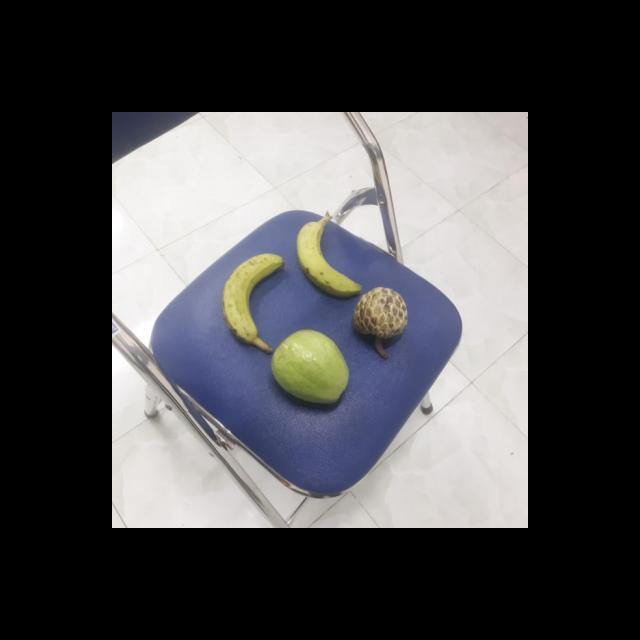Sakya fruit: (350, 286, 408, 352)
banana: (217, 254, 285, 345), (293, 216, 359, 296)
guava: (267, 332, 348, 406)
